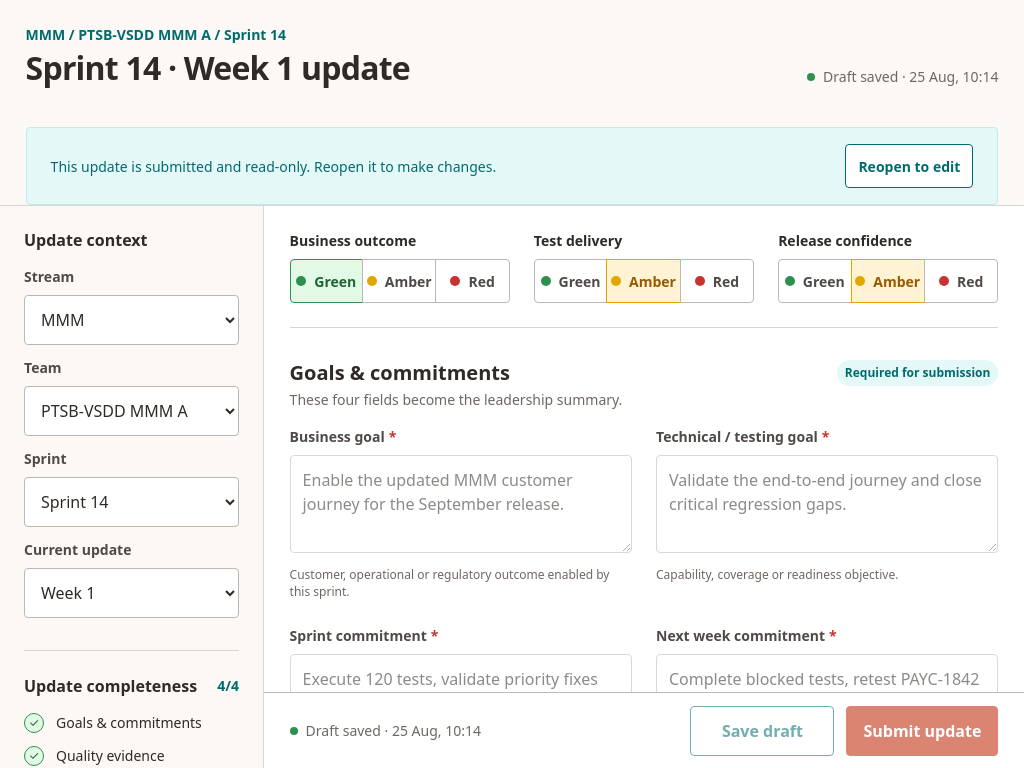
TeamUpdatePage conflict resolution › shows a conflict panel and freezes writes (no silent overwrite)
expect the heading "Sprint 14 · Week 1 update" is shown: met, box [26,49,410,87]
Select "PTSB-VSDD MMM B" in the dropdown labelled "Team": (132, 411) [24,386,239,436]
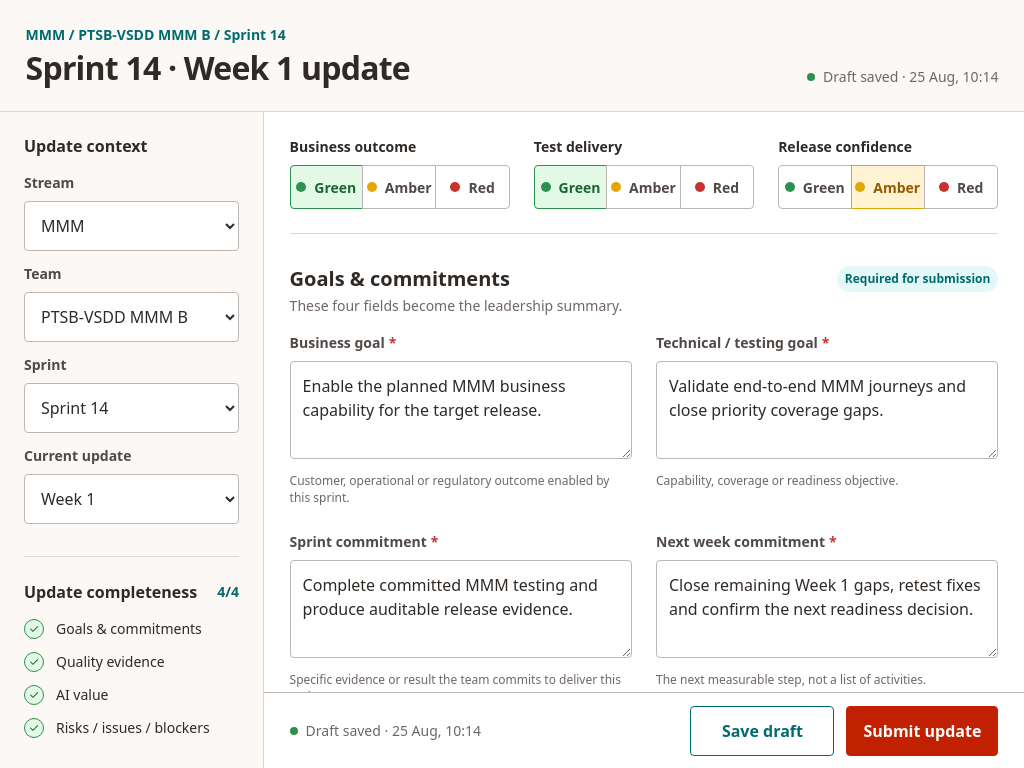
expect the text box labelled "Business goal*" is enabled: met
Replace the text in the text box labelled "Business goal*" with "My local edit that must not be silently overwritten.": (461, 410) [290,361,632,459]
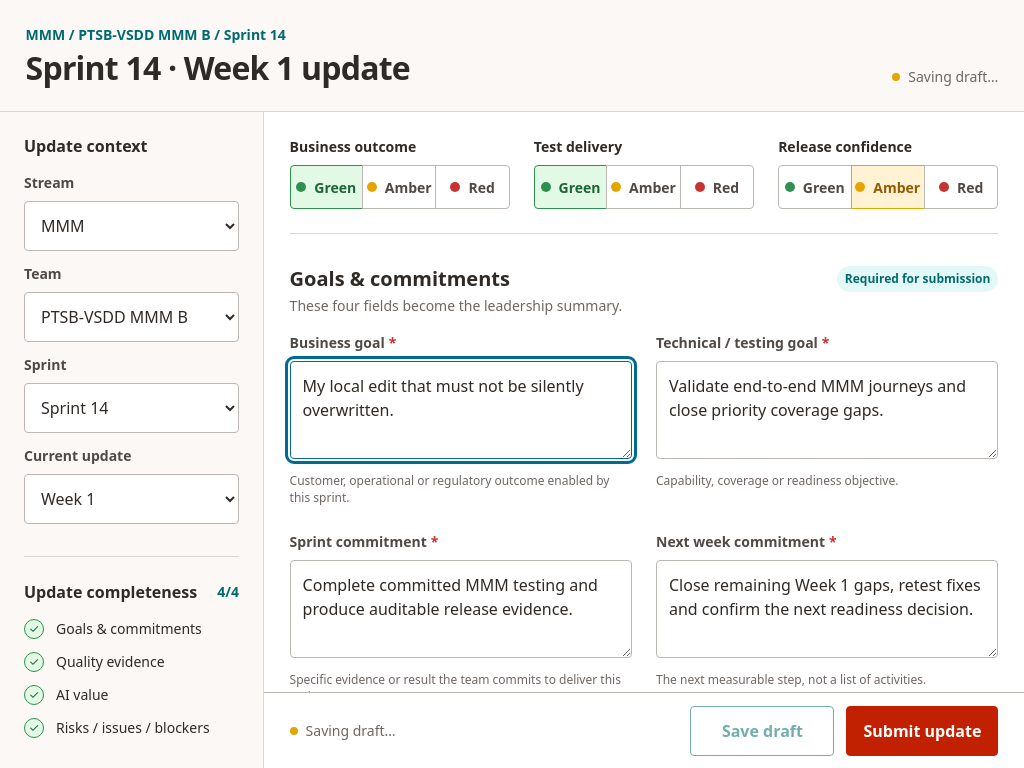
Click the button "Save draft": (762, 730) [690,706,834,756]
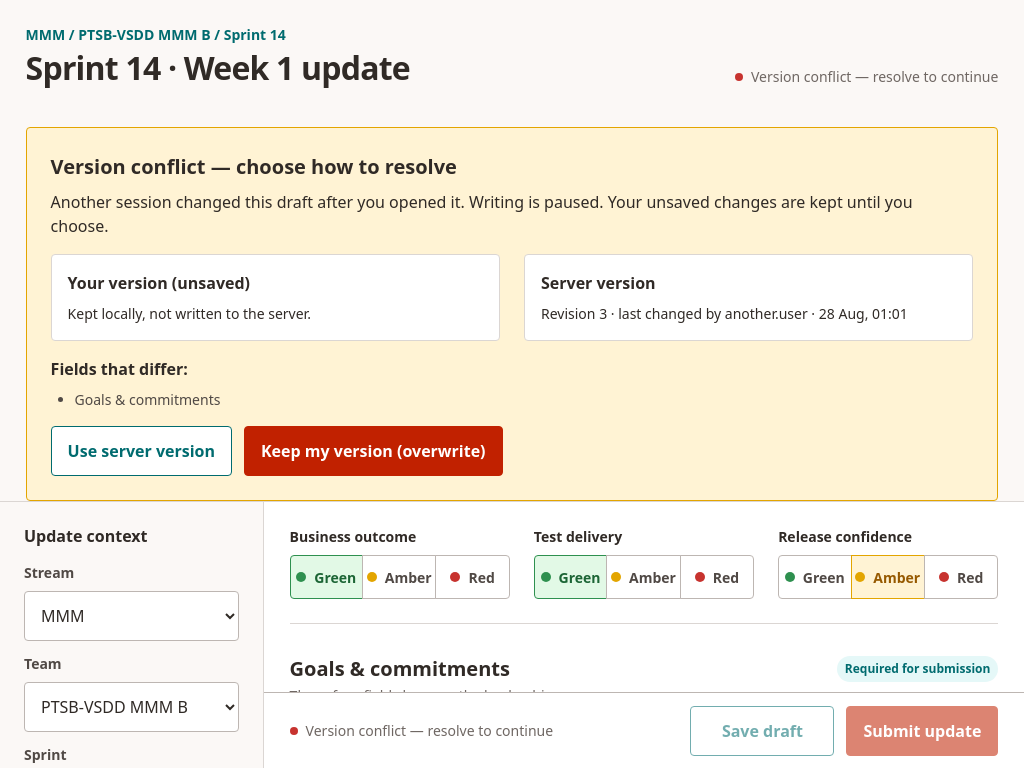
expect the button "Save draft" is disabled: met, box [690,706,834,756]
expect the heading "Version conflict — choose how to resolve" is shown: met, box [51,153,457,180]
expect the button "Submit update" is disabled: met, box [846,706,998,756]
